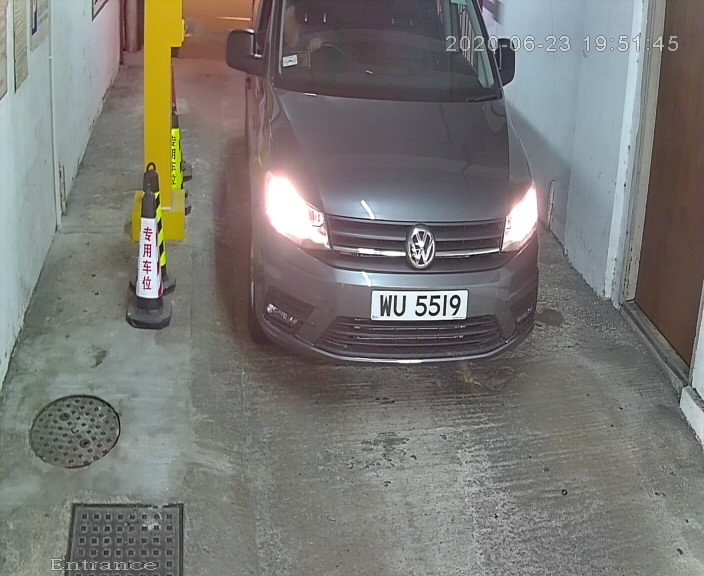privatecar: (219, 1, 543, 400)
